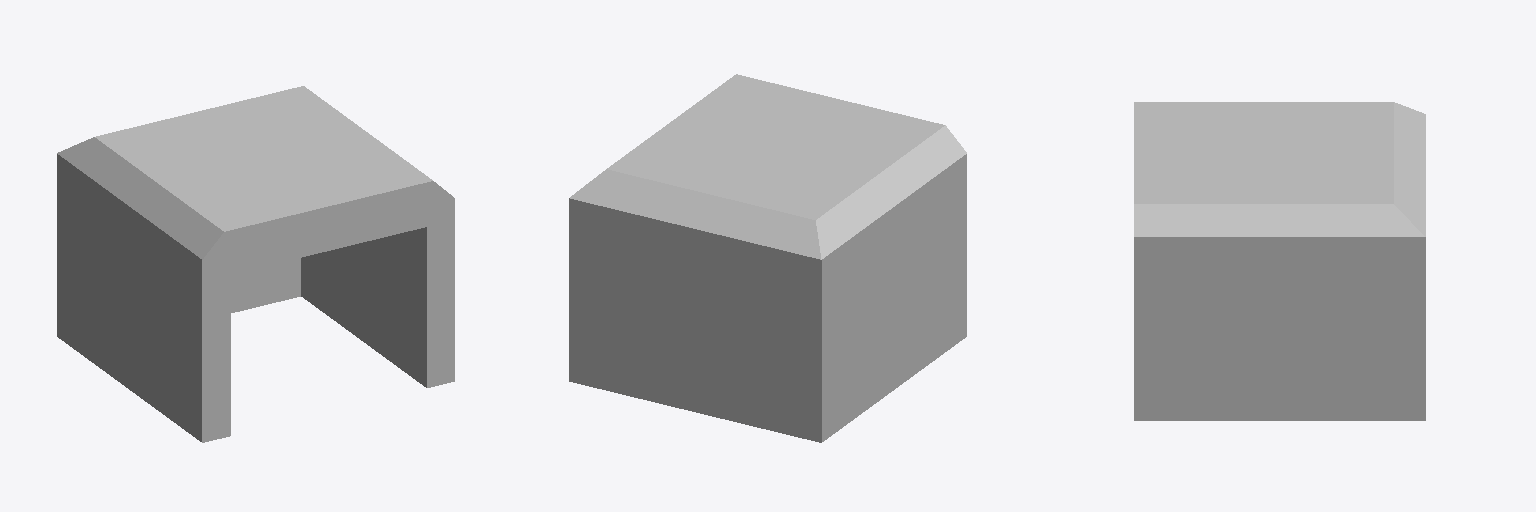
Rendered from slot.obj.
3 views of the same model, side by side, from view 1: azimuth 30°, elevation 25°; view 2: azimuth 150°, elevation 25°; view 3: azimuth 270°, elevation 25° (orthographic).
Visible parts, largest first — view 1: Plane.001; view 2: Plane.001; view 3: Plane.001.
Boxes of the visible parts, <box> form: Plane.001: <box>57,86,454,442</box>; Plane.001: <box>569,74,966,442</box>; Plane.001: <box>1134,102,1425,420</box>.
Bounding box in the file's own units: 4 × 3.11 × 3.99.